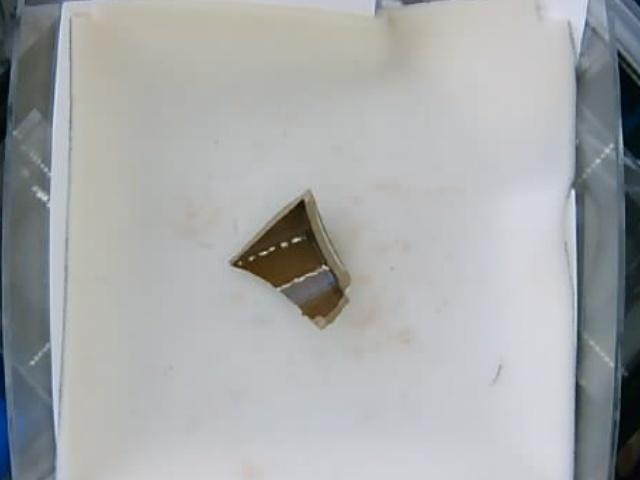China: (232, 192, 351, 329)
